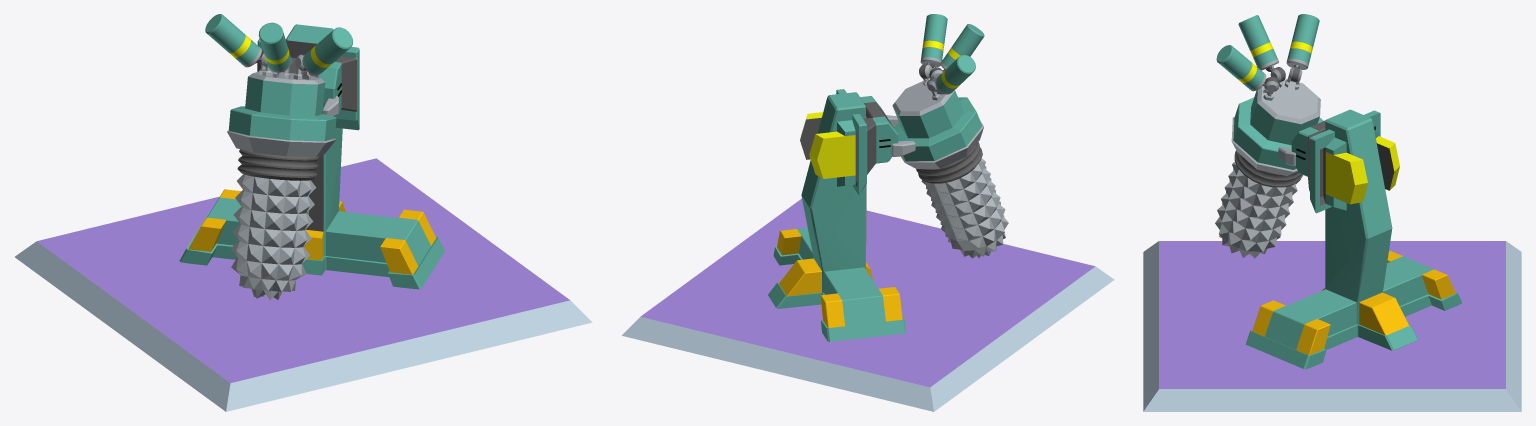
File: 85_Haarvester_KEK3.fbx
3 renders of one model, left to right at view 1: azimuth 30°, elevation 25°; view 2: azimuth 150°, elevation 25°; view 3: azimuth 270°, elevation 25°, orthographic. The views are drawn at different scales.
Visible parts, largest first — view 1: foundation3, base3, drill, polySurface74, pCylinder262 (×3), elevator3, pSphere62, pCylinder261; view 2: foundation3, base3, drill, elevator3, polySurface74, pCylinder262 (×3), pCylinder261, pSphere62; view 3: foundation3, base3, elevator3, drill, polySurface74, pCylinder262 (×3), pCylinder261, pSphere62.
Boxes of the visible parts, x1,y1,x2,y2 form: foundation3: (15, 158, 592, 411); base3: (179, 24, 444, 289); drill: (227, 71, 336, 157); polySurface74: (230, 174, 316, 264); pCylinder262 (×3): (205, 14, 352, 75); elevator3: (257, 38, 359, 130); pSphere62: (231, 258, 306, 300); pCylinder261: (237, 149, 319, 180); foundation3: (622, 198, 1114, 411); base3: (768, 92, 905, 341); drill: (892, 81, 983, 168); elevator3: (800, 89, 898, 194); polySurface74: (921, 158, 1005, 240); pCylinder262 (×3): (920, 14, 984, 94); pCylinder261: (916, 142, 982, 183); pSphere62: (948, 215, 1008, 258); foundation3: (1143, 241, 1521, 411); base3: (1246, 109, 1461, 369); elevator3: (1291, 110, 1399, 213); drill: (1231, 79, 1323, 175); polySurface74: (1217, 162, 1300, 242); pCylinder262 (×3): (1216, 14, 1319, 91); pCylinder261: (1234, 150, 1302, 187); pSphere62: (1215, 217, 1280, 258).
Size of the model in its own units: 2 by 1.65 by 2.
